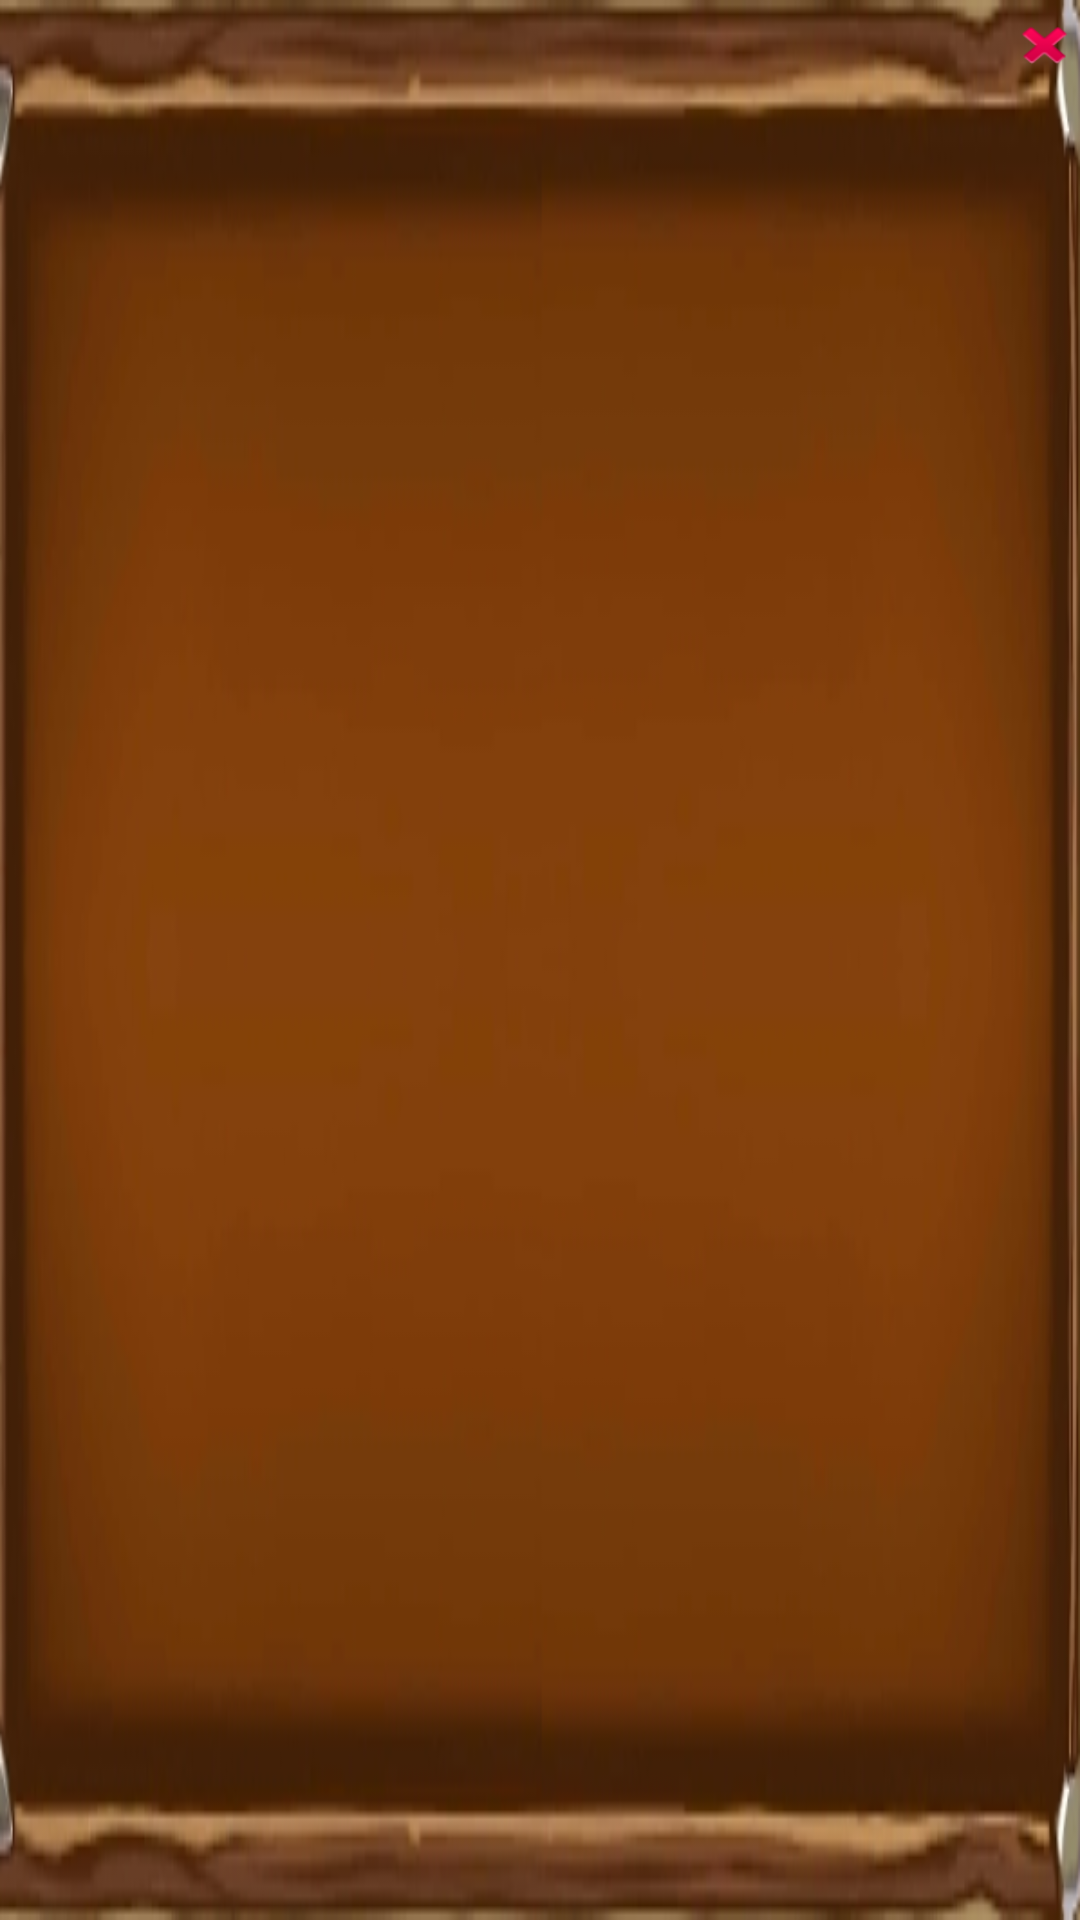

Screen size 1080 x 1920. Icon name, then its center in pixels as (x,y):
delete: (1044,45)
